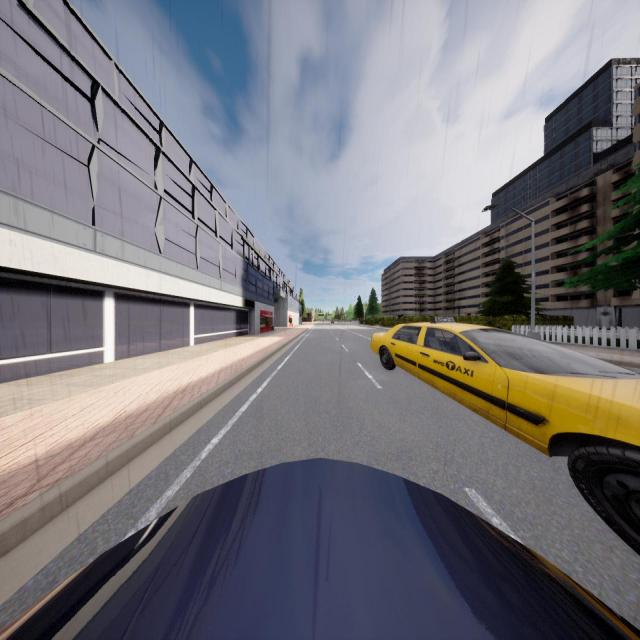Vehicle: (1, 455, 640, 640), (370, 322, 640, 554), (330, 320, 334, 324)
